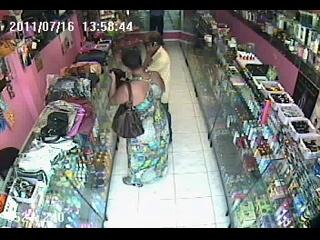Normal: (110, 54, 172, 187), (140, 32, 172, 144), (112, 80, 144, 139)
